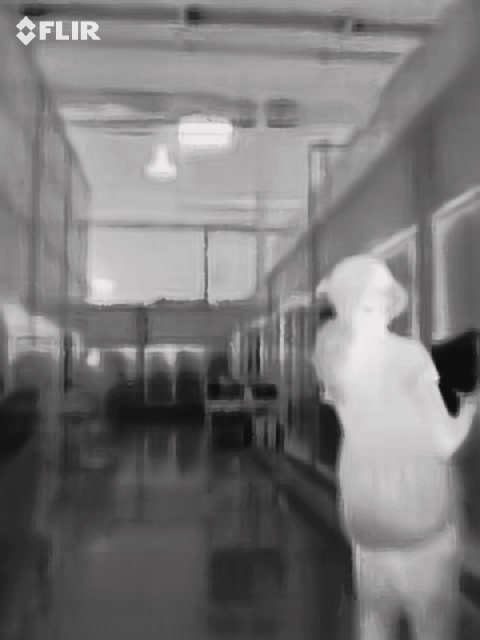head: (330, 252, 408, 335)
